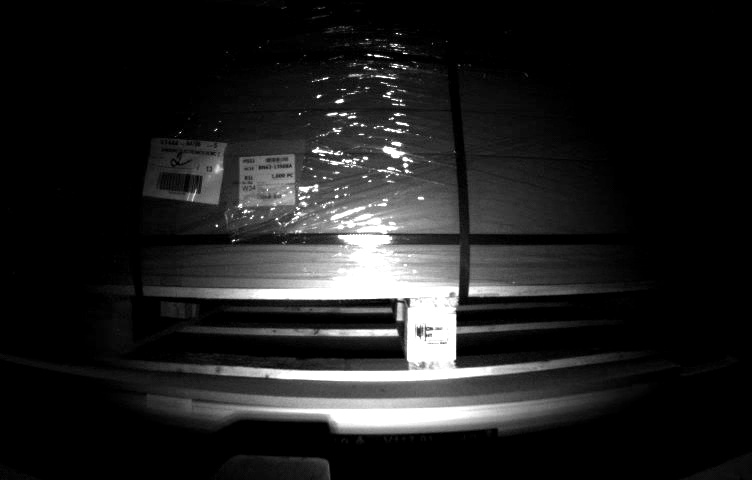True Barcode: (238, 151, 299, 207)
